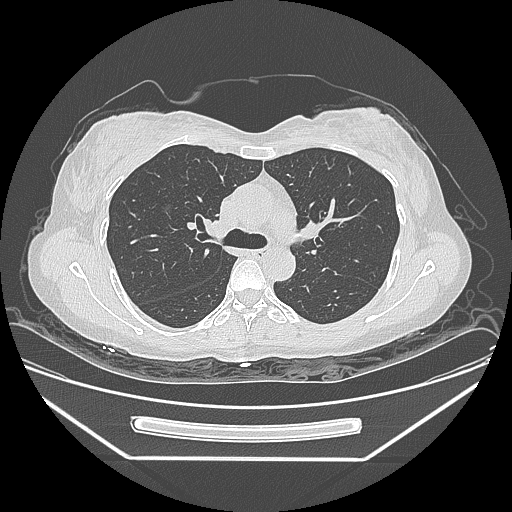nodule: (161, 204, 172, 212)
